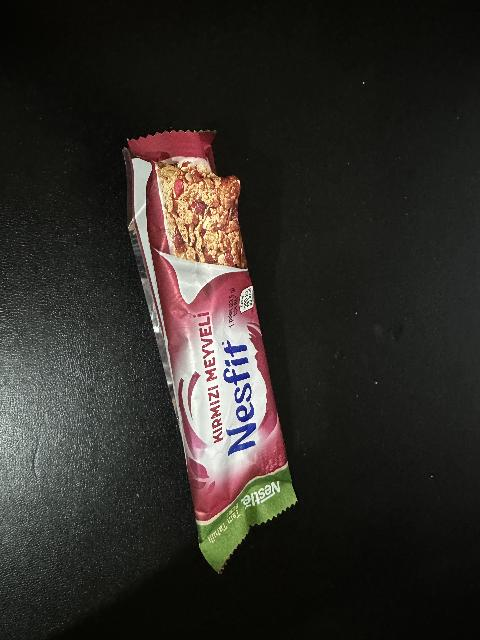Plastik: (110, 133, 302, 567)
